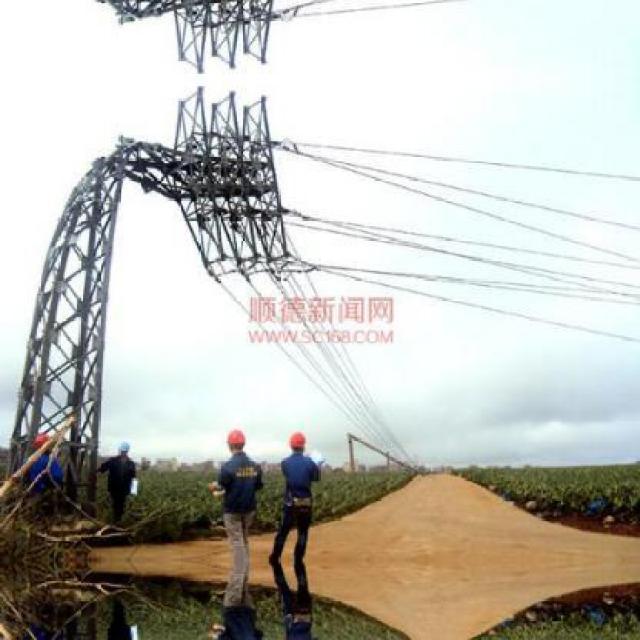hat: (217, 422, 249, 456), (282, 425, 311, 454), (109, 437, 137, 456)
